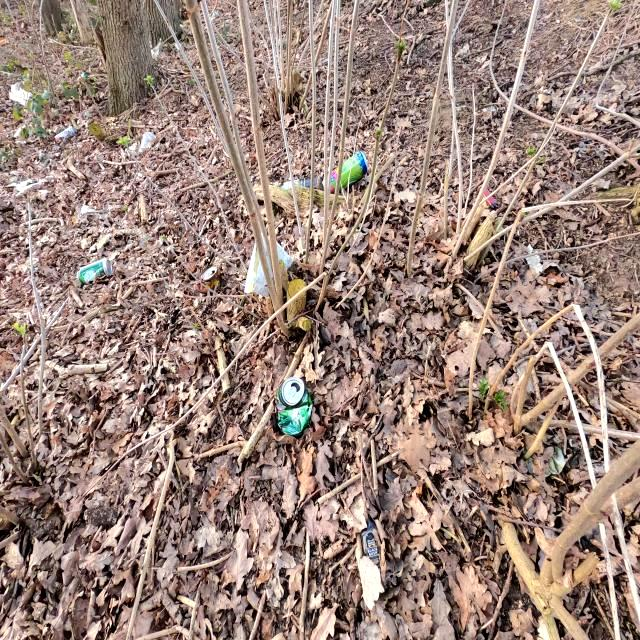Metal: (275, 376, 313, 440), (321, 150, 369, 194), (75, 256, 113, 286), (282, 173, 322, 190), (53, 125, 77, 144), (201, 265, 221, 283)
Paper: (8, 81, 32, 107)
Plastic: (244, 232, 294, 296), (78, 72, 89, 80)
